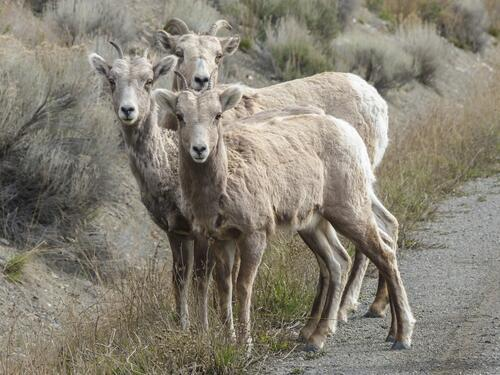sheep: (89, 39, 399, 330), (153, 67, 417, 351), (158, 17, 388, 168)
